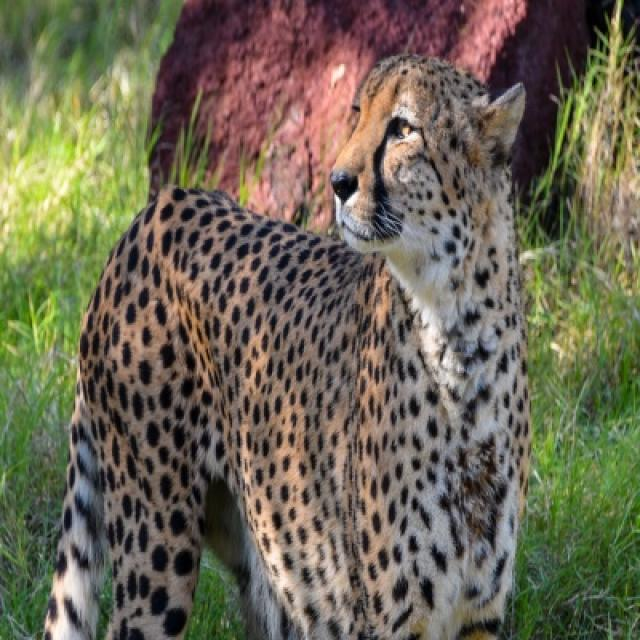Cheetah: (42, 56, 539, 638)
